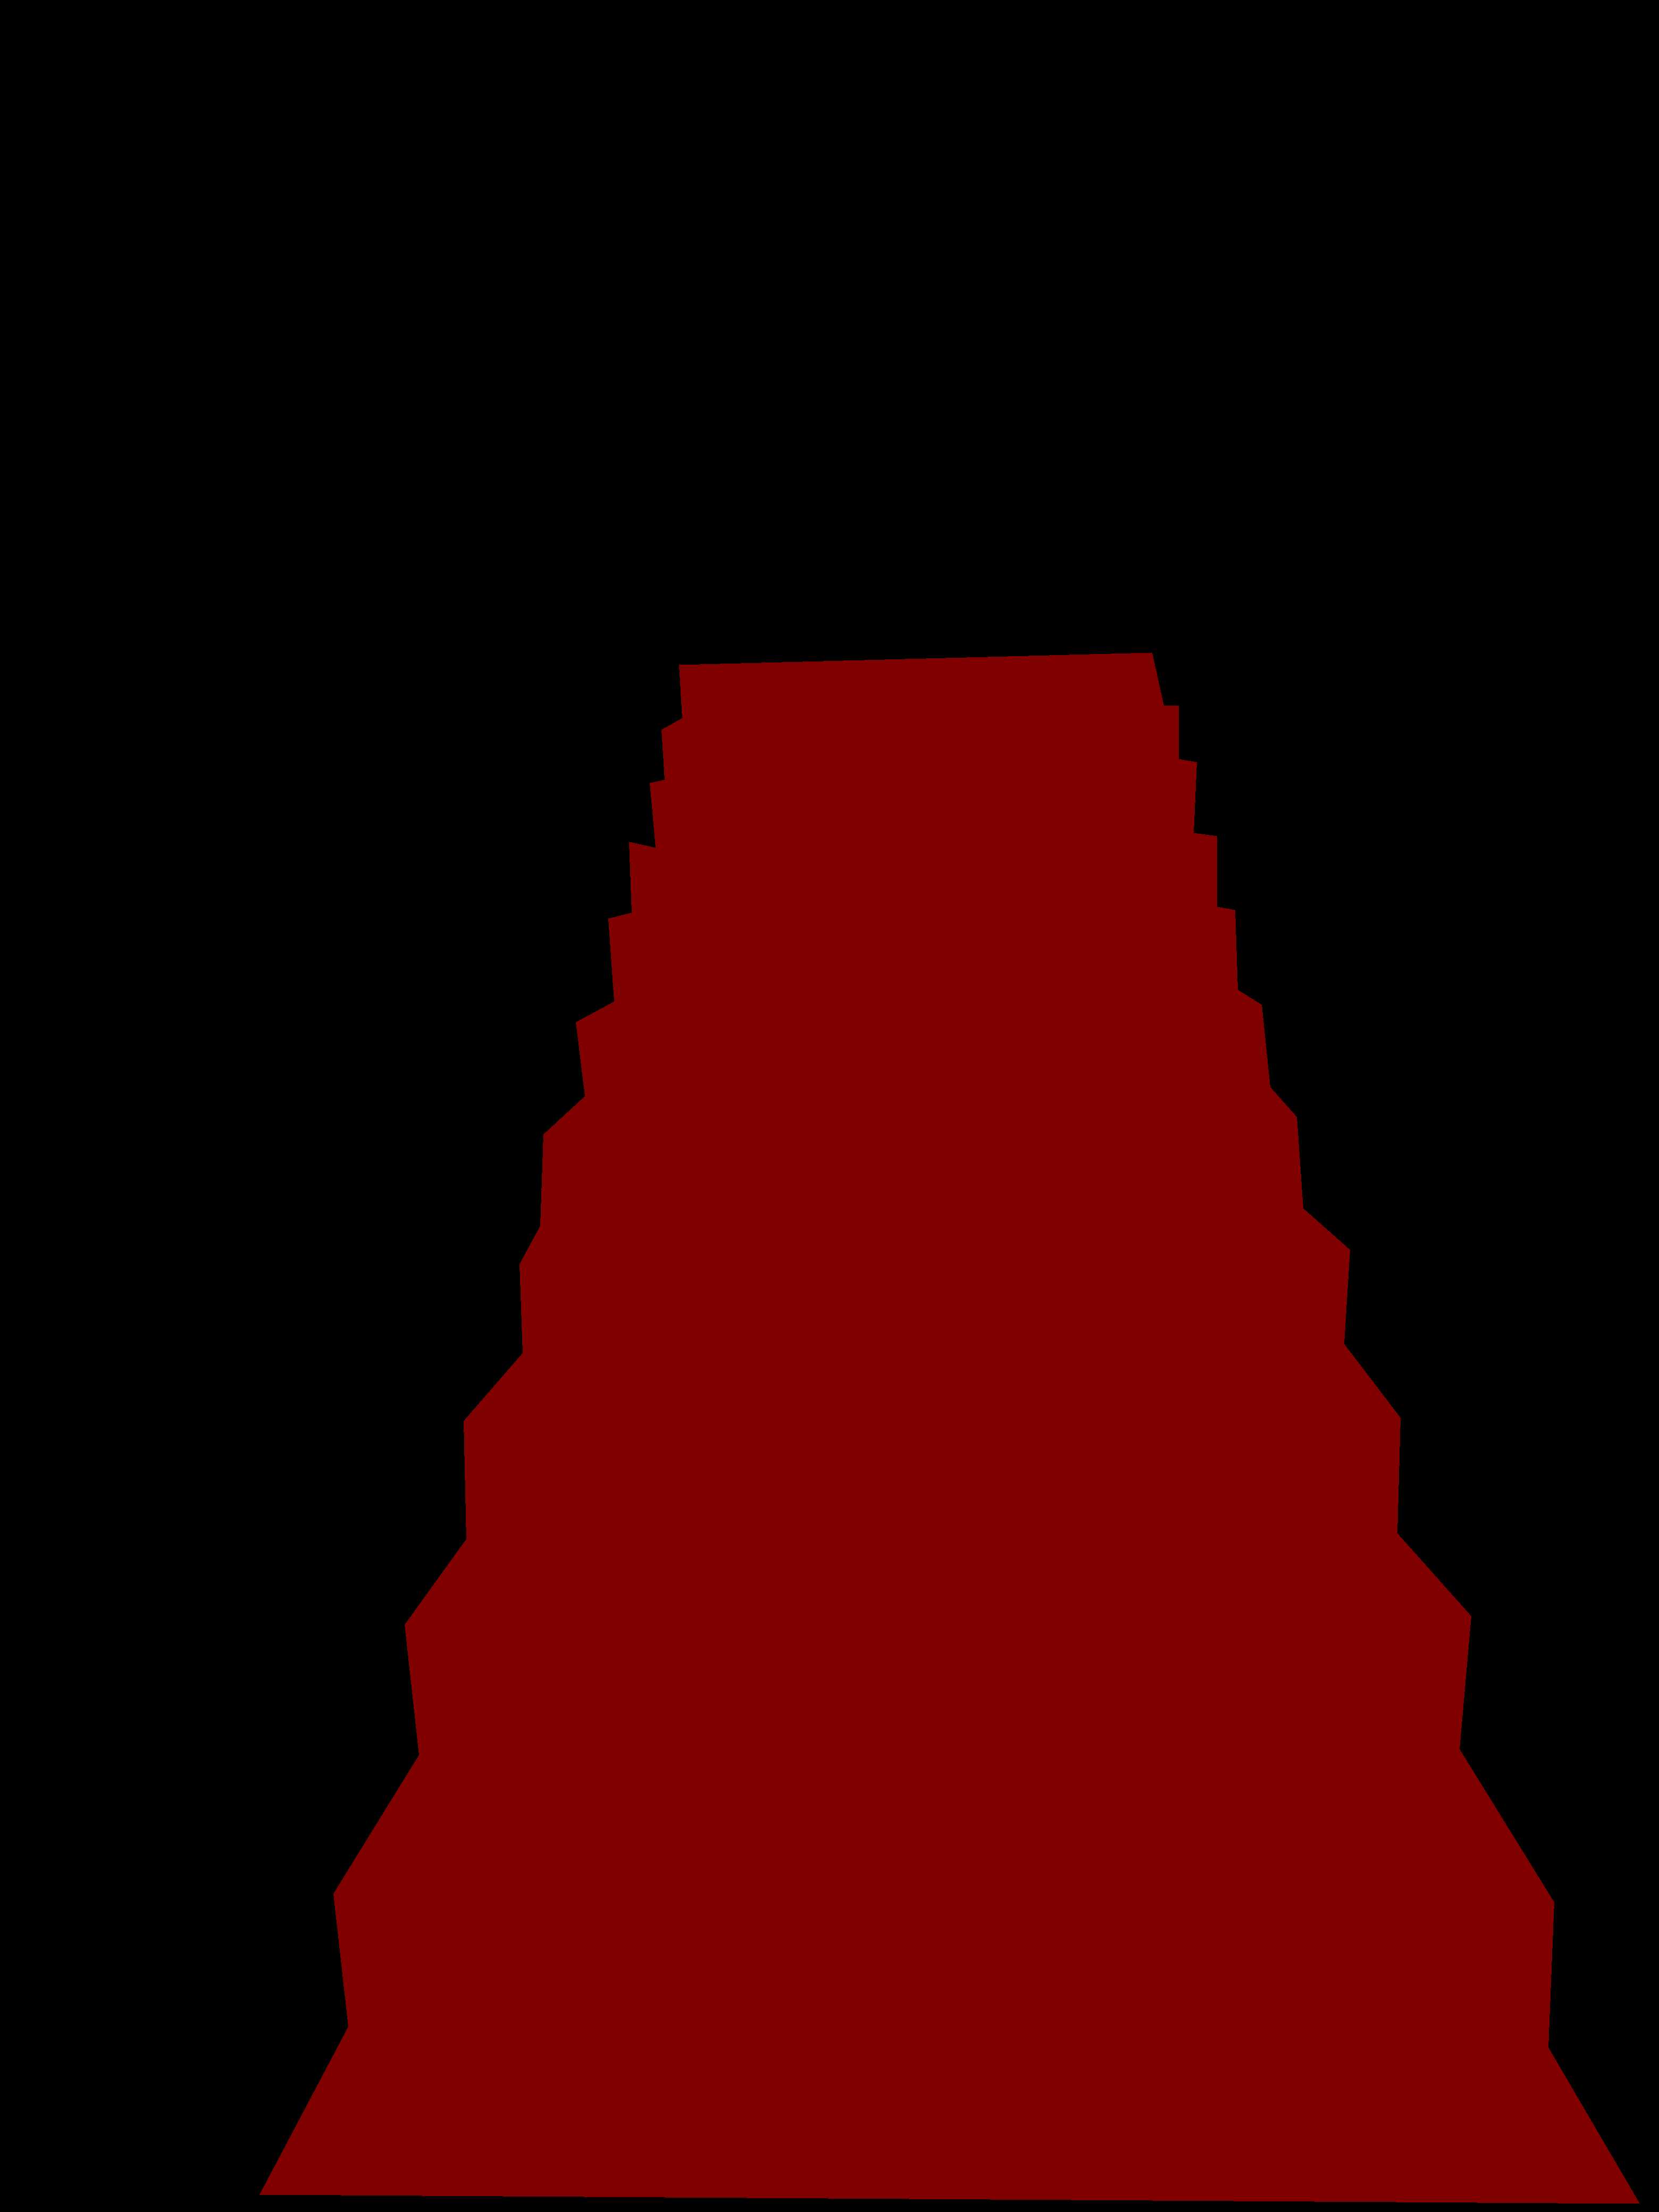stair: (260, 653, 1640, 2203)
